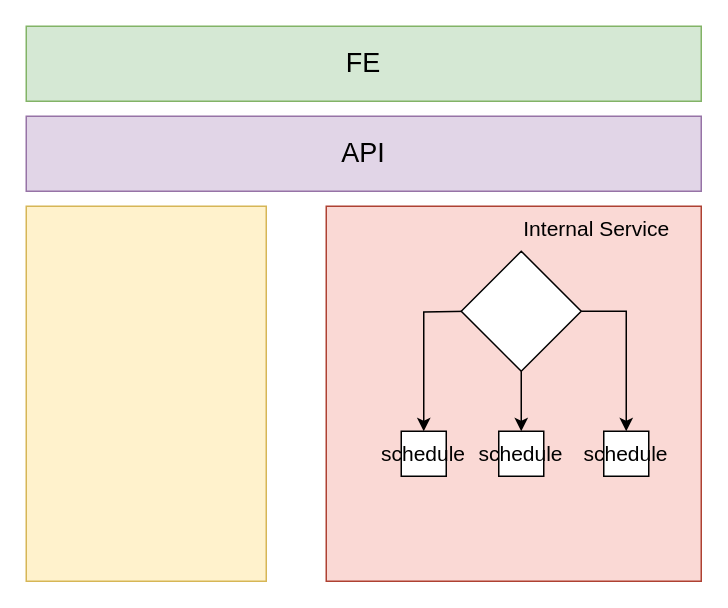
The diagram is 728 pixels wide and 608 high, and some of its shapes have lost their labels. Each missing label, with the centre of its shape:
"cron job service" belongs at point (145, 393).
"view" belongs at point (520, 310).
